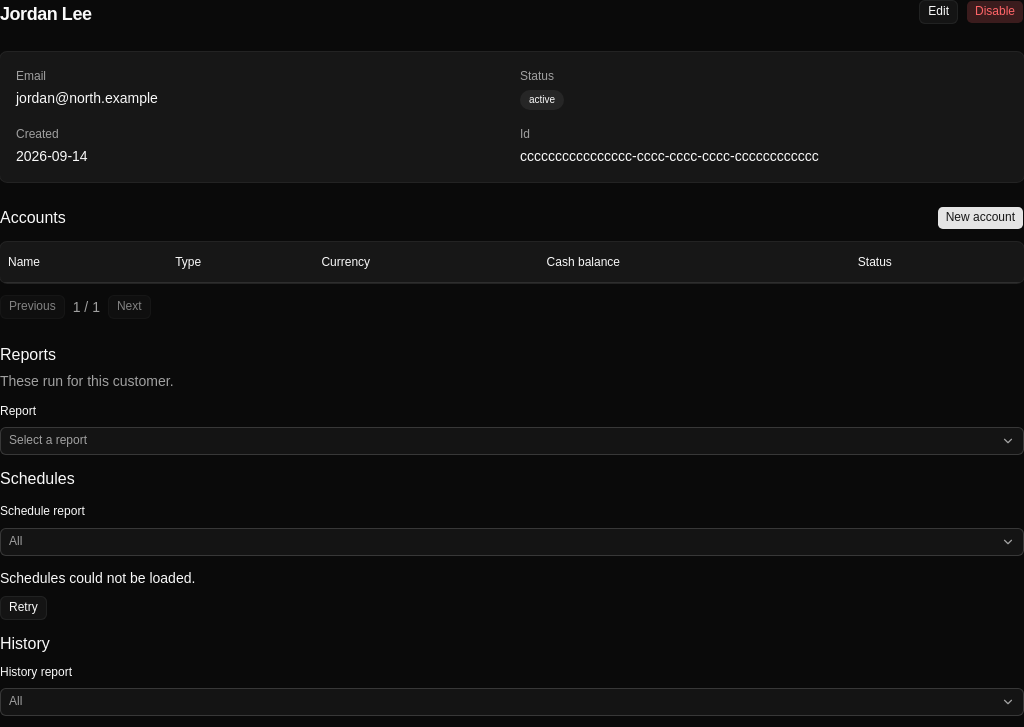
it: CustomerDetailPage › queues a customer transactions report for this customer
Click the dropdown labelled "report" at (48, 440), box [0, 427, 1023, 455]
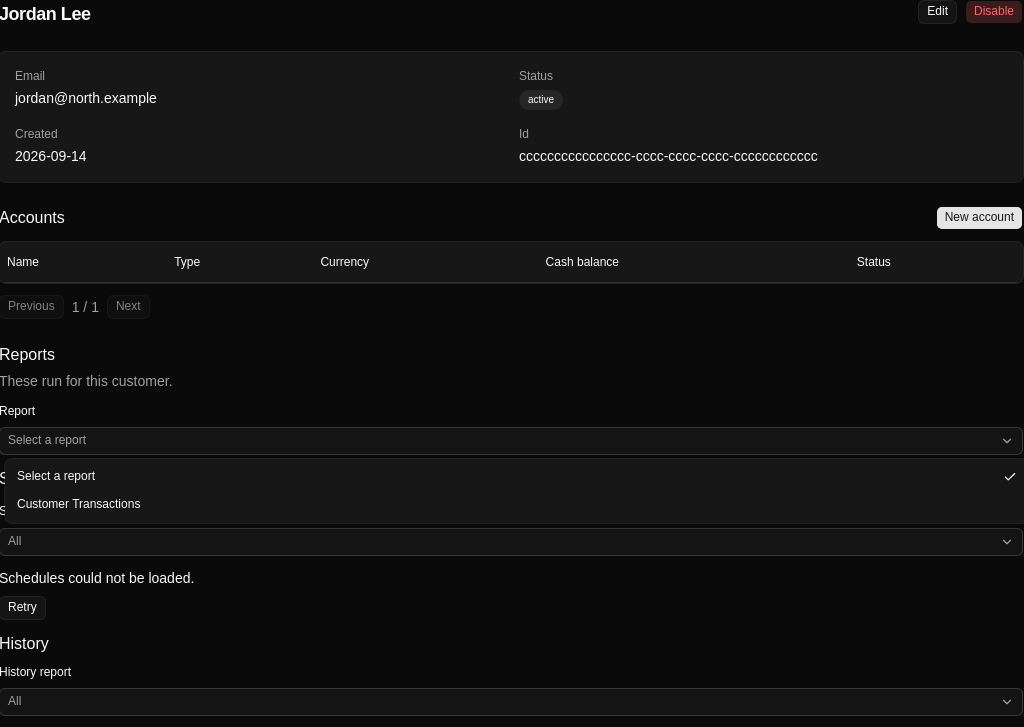
Click the option "Customer Transactions" at (79, 504), box [17, 497, 140, 511]
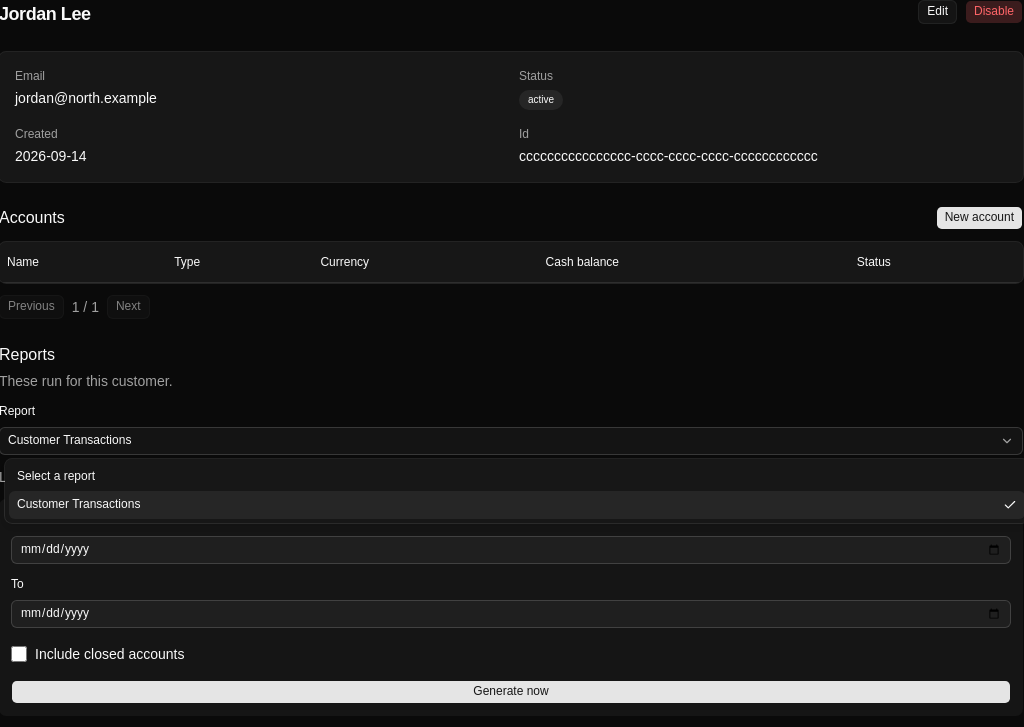
Type "2026-01-01" into the date field labelled "From" at (511, 550), box [11, 536, 1011, 564]
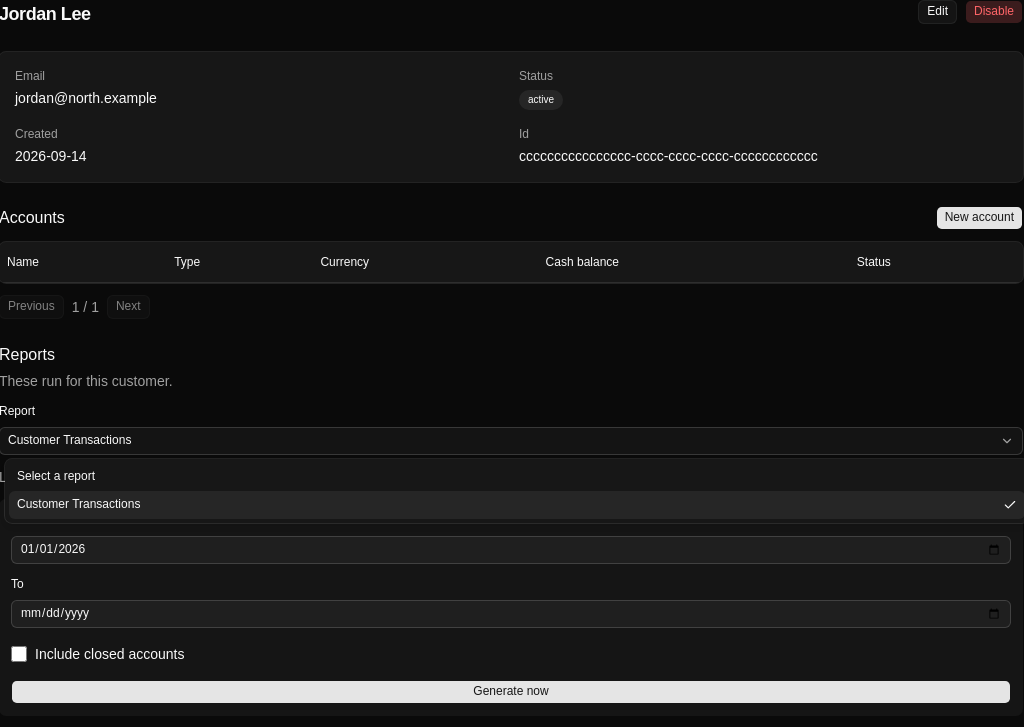
Type "2026-03-31" into the date field labelled "To" at (511, 614), box [11, 600, 1011, 628]
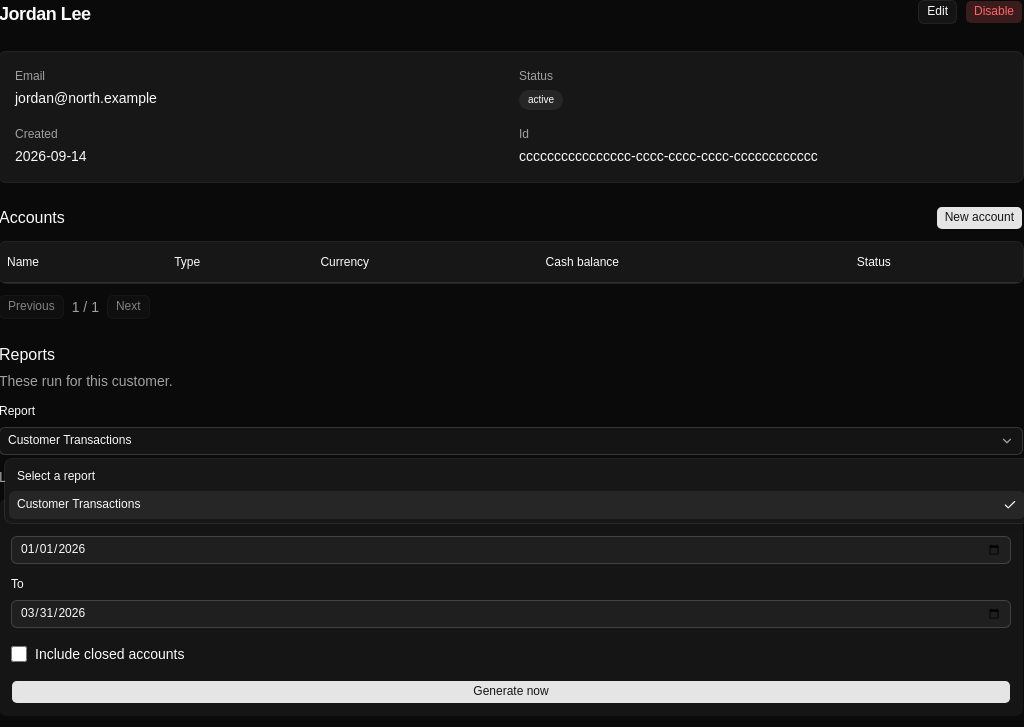
Click the button "Generate now" at (511, 692), box [11, 680, 1011, 704]
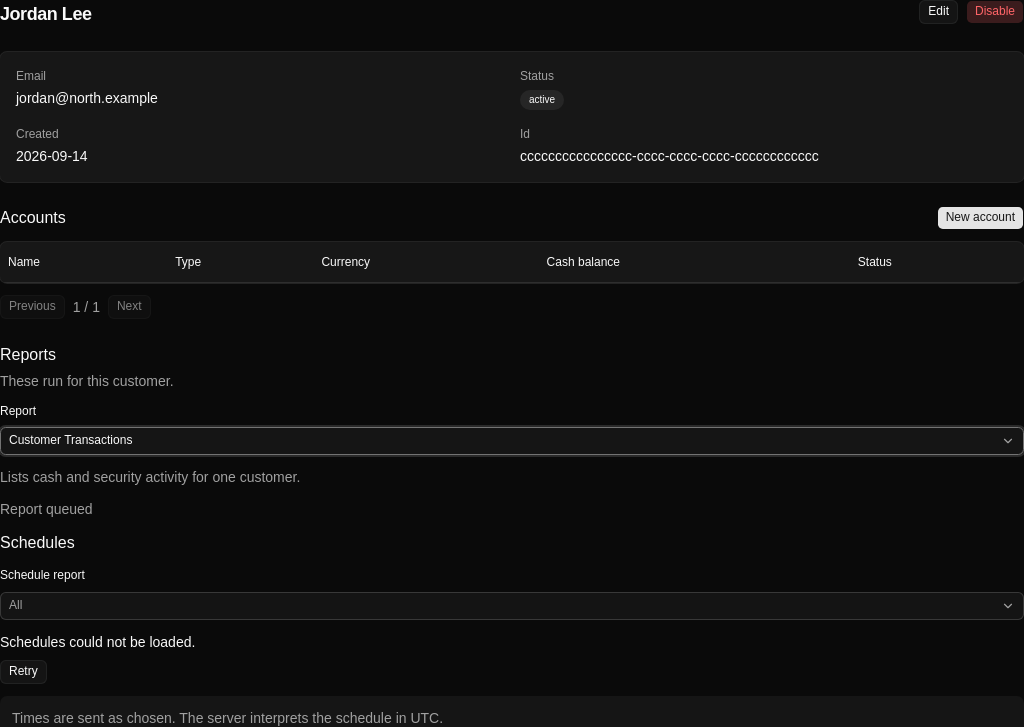
Result: the text "Report queued" is shown at [0, 501, 93, 517]
Result: the button "Generate now" is gone
